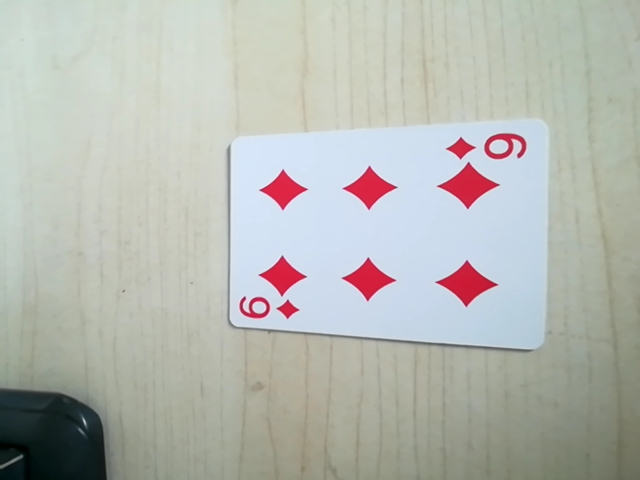fk 6: (443, 125, 532, 168), (234, 293, 303, 326)
